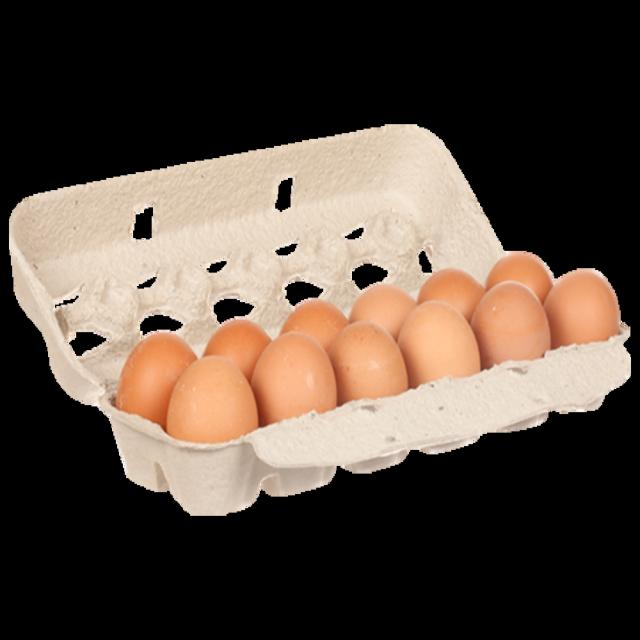huevos: (164, 353, 264, 460)
